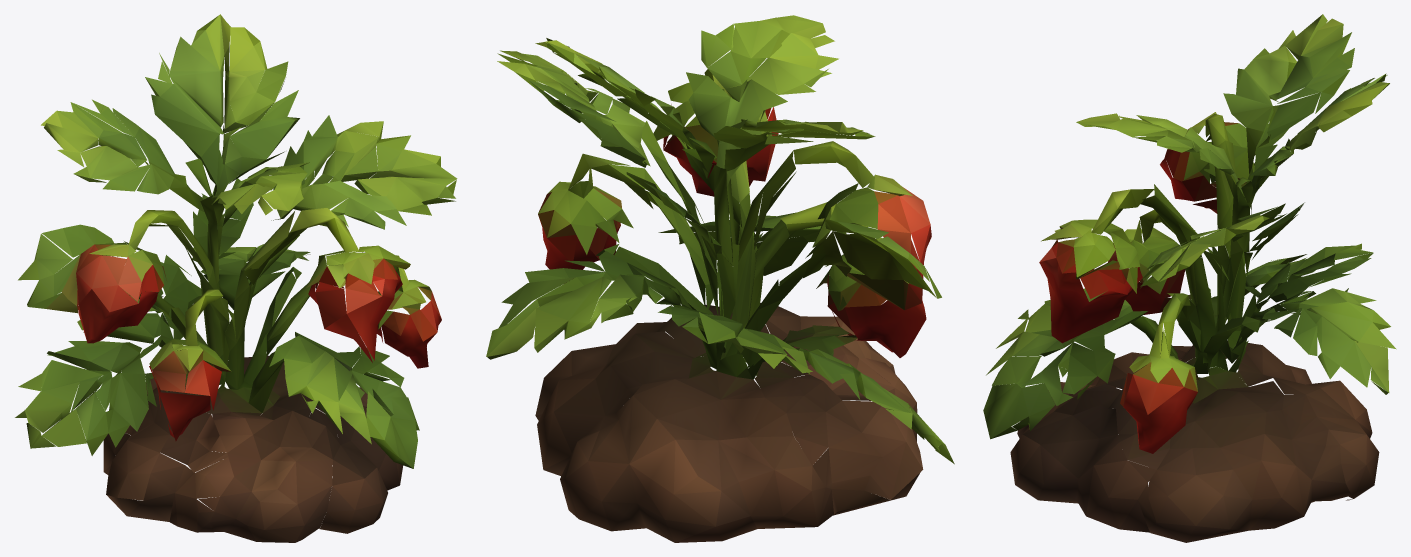
Rendered from building-garden-fruit.glb.
The picture shows the model from 3 angles, left to right: view 1: azimuth 30°, elevation 25°; view 2: azimuth 150°, elevation 25°; view 3: azimuth 270°, elevation 25°; orthographic projection. The views are drawn at different scales.
Visible parts, largest first — view 1: 0_garden-fruit; view 2: 0_garden-fruit; view 3: 0_garden-fruit.
Part boxes in pixels (x1,y1,x2,y2): 0_garden-fruit: [15, 14, 457, 542]; 0_garden-fruit: [486, 15, 954, 542]; 0_garden-fruit: [983, 14, 1396, 542].
Bounding box in the file's own units: 0.35 × 0.3303 × 0.2951.
